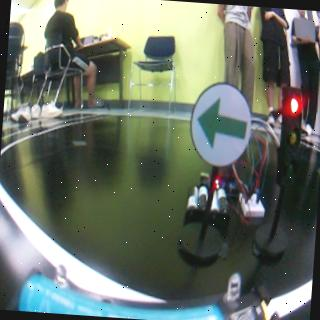left: (187, 80, 250, 164)
red: (268, 84, 304, 264)
